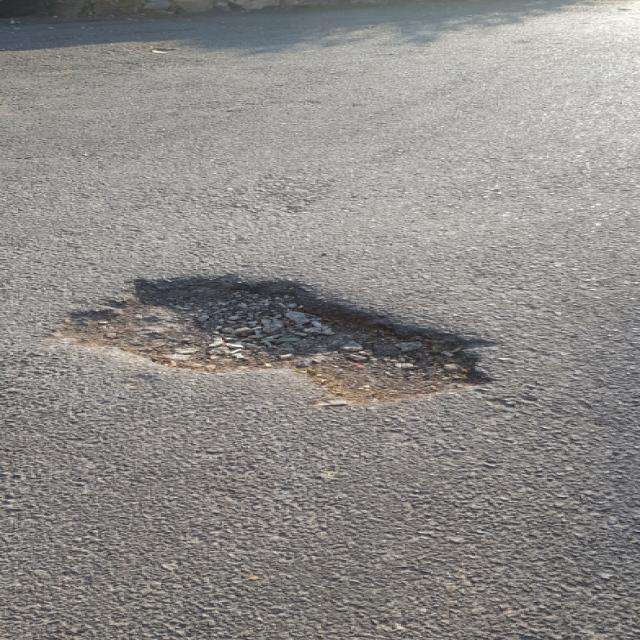pothole: (38, 270, 504, 409)
